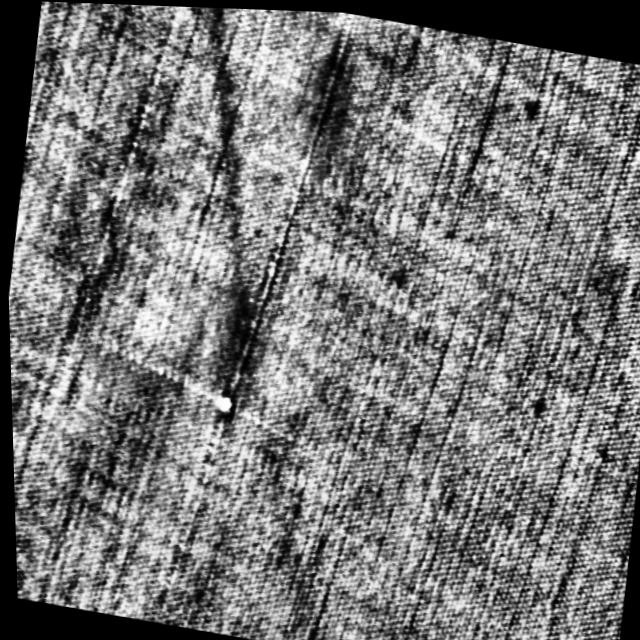Hole: (213, 389, 233, 417)
